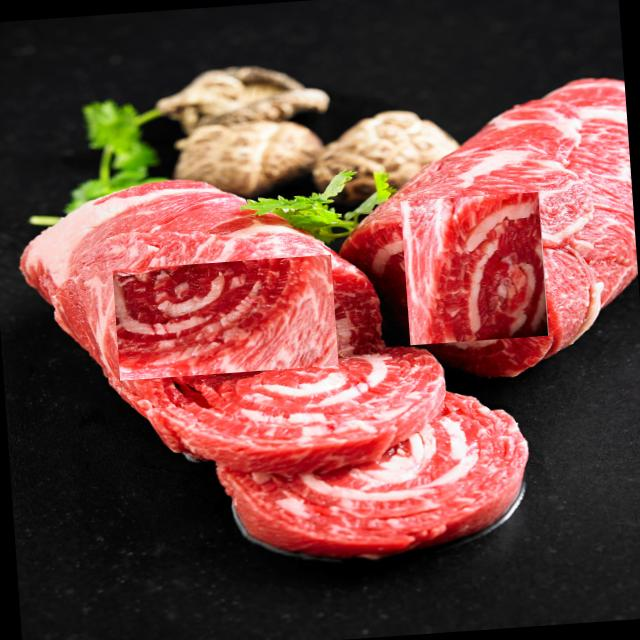beef: (112, 252, 339, 380), (398, 193, 550, 344)
